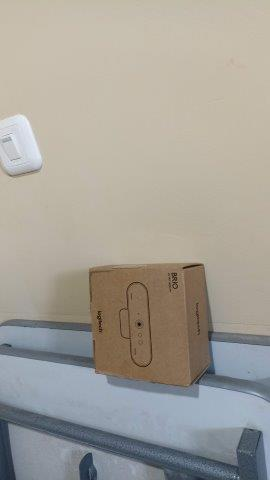kardus: (90, 263, 209, 385)
